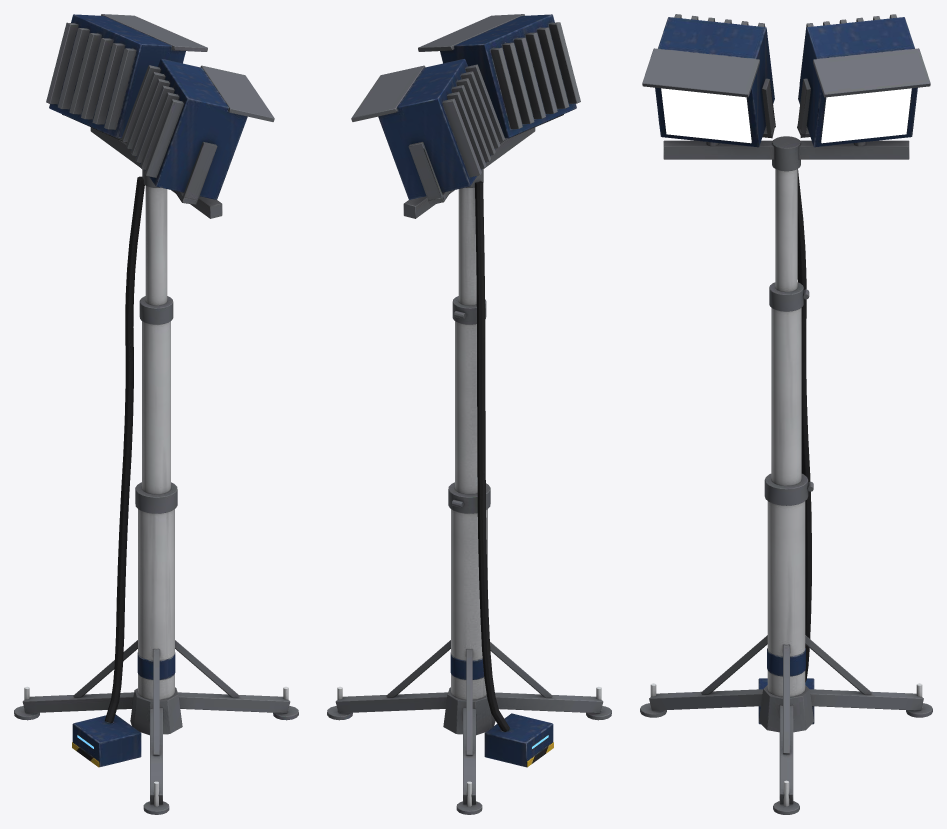
Rendered from 整備庫_32_照明塔A.glb.
3 renders of one model, left to right at view 1: azimuth 30°, elevation 25°; view 2: azimuth 150°, elevation 25°; view 3: azimuth 270°, elevation 25°, orthographic. The views are drawn at different scales.
Visible parts, largest first — view 1: Light_a_Mesh; view 2: Light_a_Mesh; view 3: Light_a_Mesh.
Boxes of the visible parts, x1,y1,x2,y2 form: Light_a_Mesh: (14,14,298,814); Light_a_Mesh: (327,14,611,814); Light_a_Mesh: (640,14,932,814).
Size of the model in its own units: 4.59 by 14.13 by 5.24.
3 materials, 1 textured.
